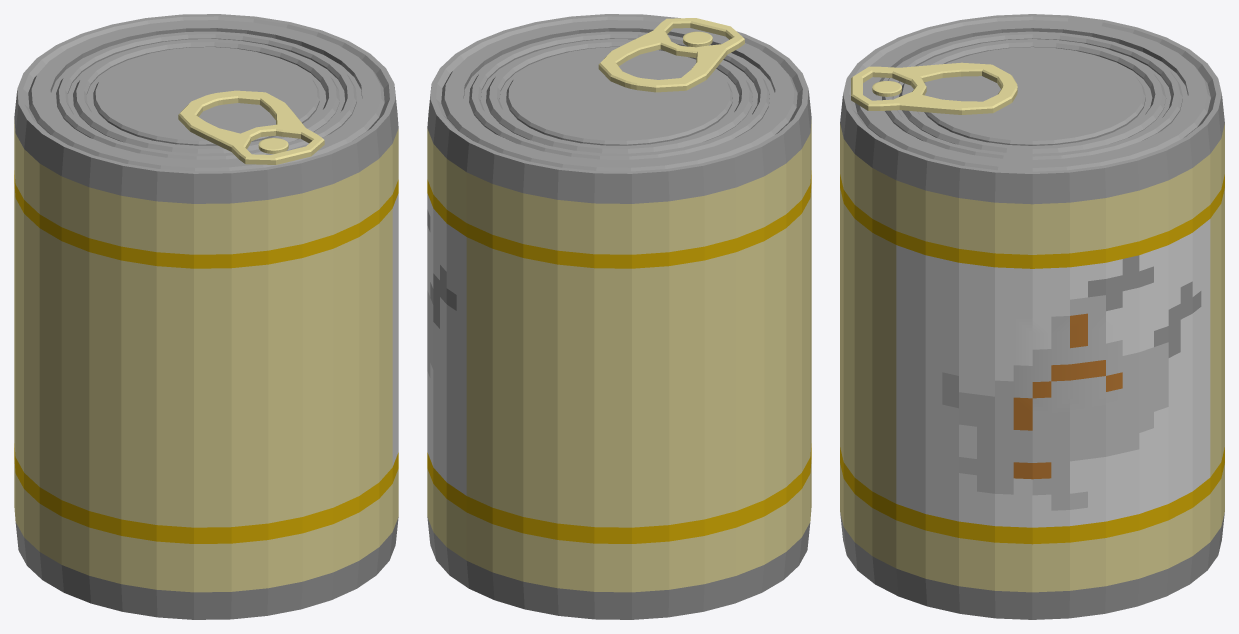
File: soup_chicken.fbx
3 renders of one model, left to right at view 1: azimuth 30°, elevation 25°; view 2: azimuth 150°, elevation 25°; view 3: azimuth 270°, elevation 25°, orthographic.
Visible parts, largest first — view 1: Cylinder.001, Cube; view 2: Cylinder.001, Cube; view 3: Cylinder.001, Cube.
Part boxes in pixels (box(x1,y1,x2,y2)): Cylinder.001: box(14, 14, 398, 619); Cube: box(178, 90, 324, 164); Cylinder.001: box(427, 14, 811, 619); Cube: box(598, 18, 744, 92); Cylinder.001: box(840, 14, 1224, 619); Cube: box(851, 62, 1017, 114).
Size of the model in its own units: 18.86 by 24.47 by 18.86.
